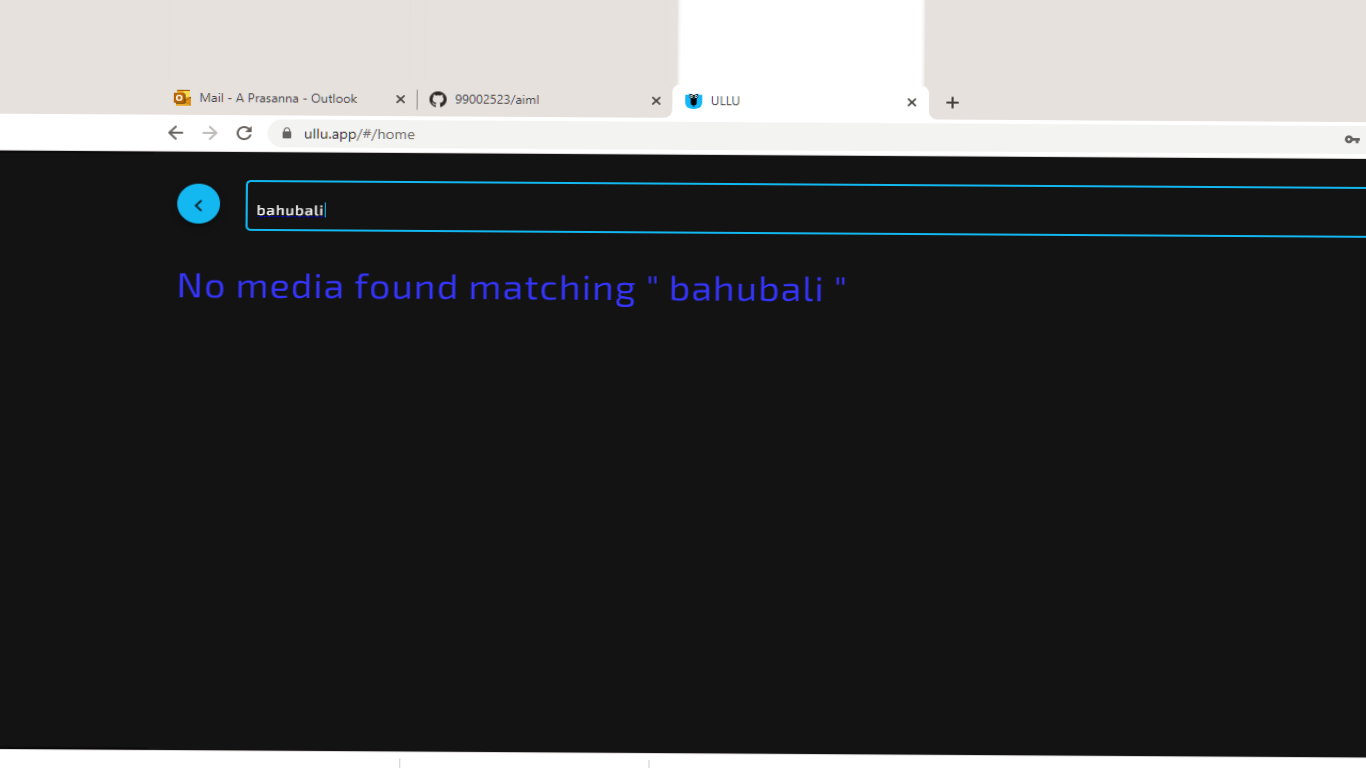backbutton: (171, 175, 231, 229)
noresultsfound: (135, 248, 861, 340)
searchtextbox: (237, 172, 1356, 248)
